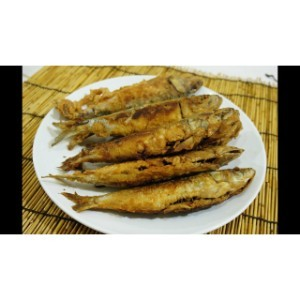sardine_brain food: (35, 72, 247, 221)
